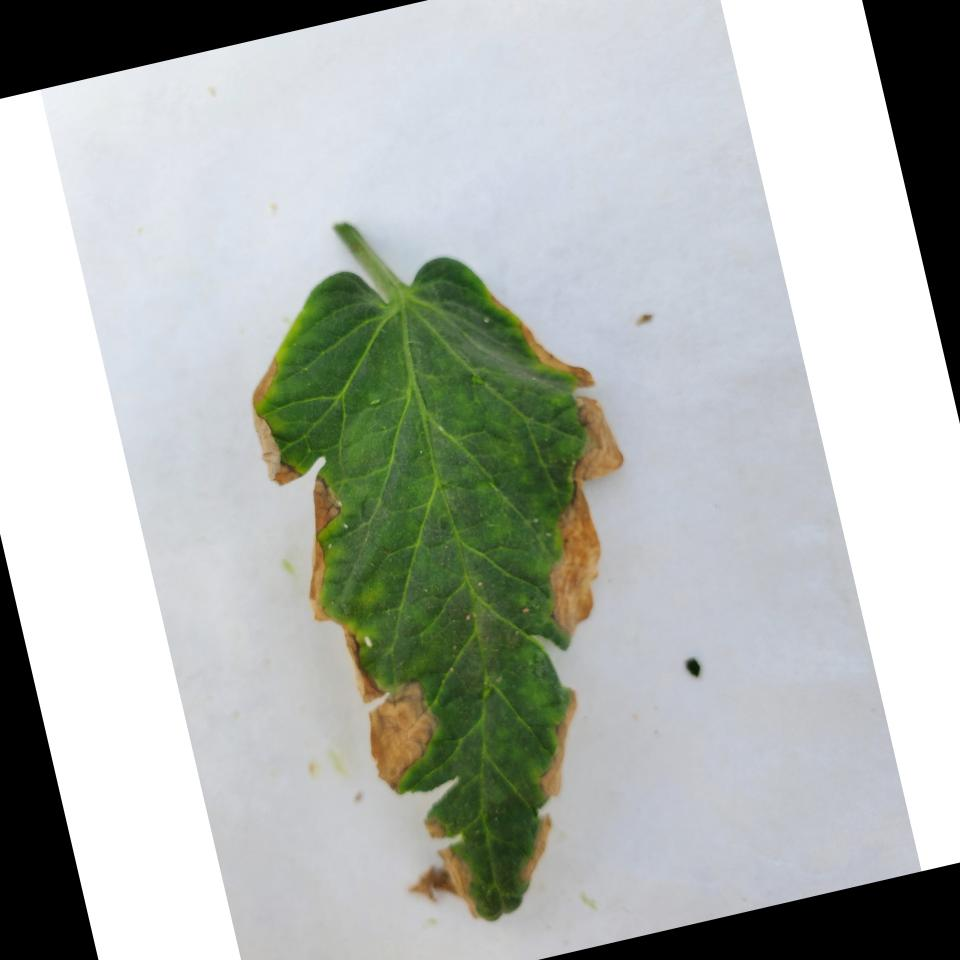tomato_bacterial_blight: (216, 209, 718, 942)
